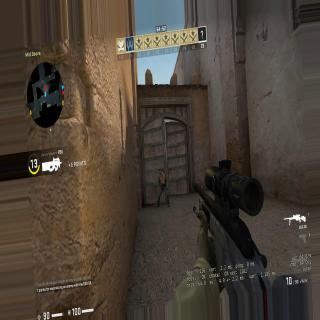T-Body: (158, 168, 168, 208)
T-Head: (158, 168, 162, 175)
